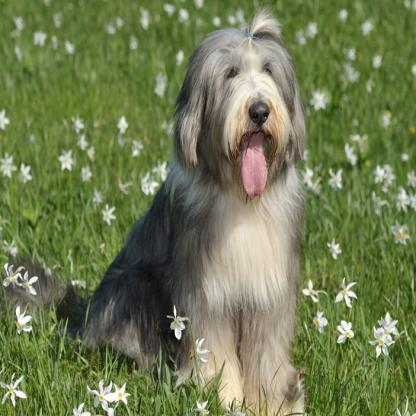Bearded Collie: (86, 8, 324, 401)
